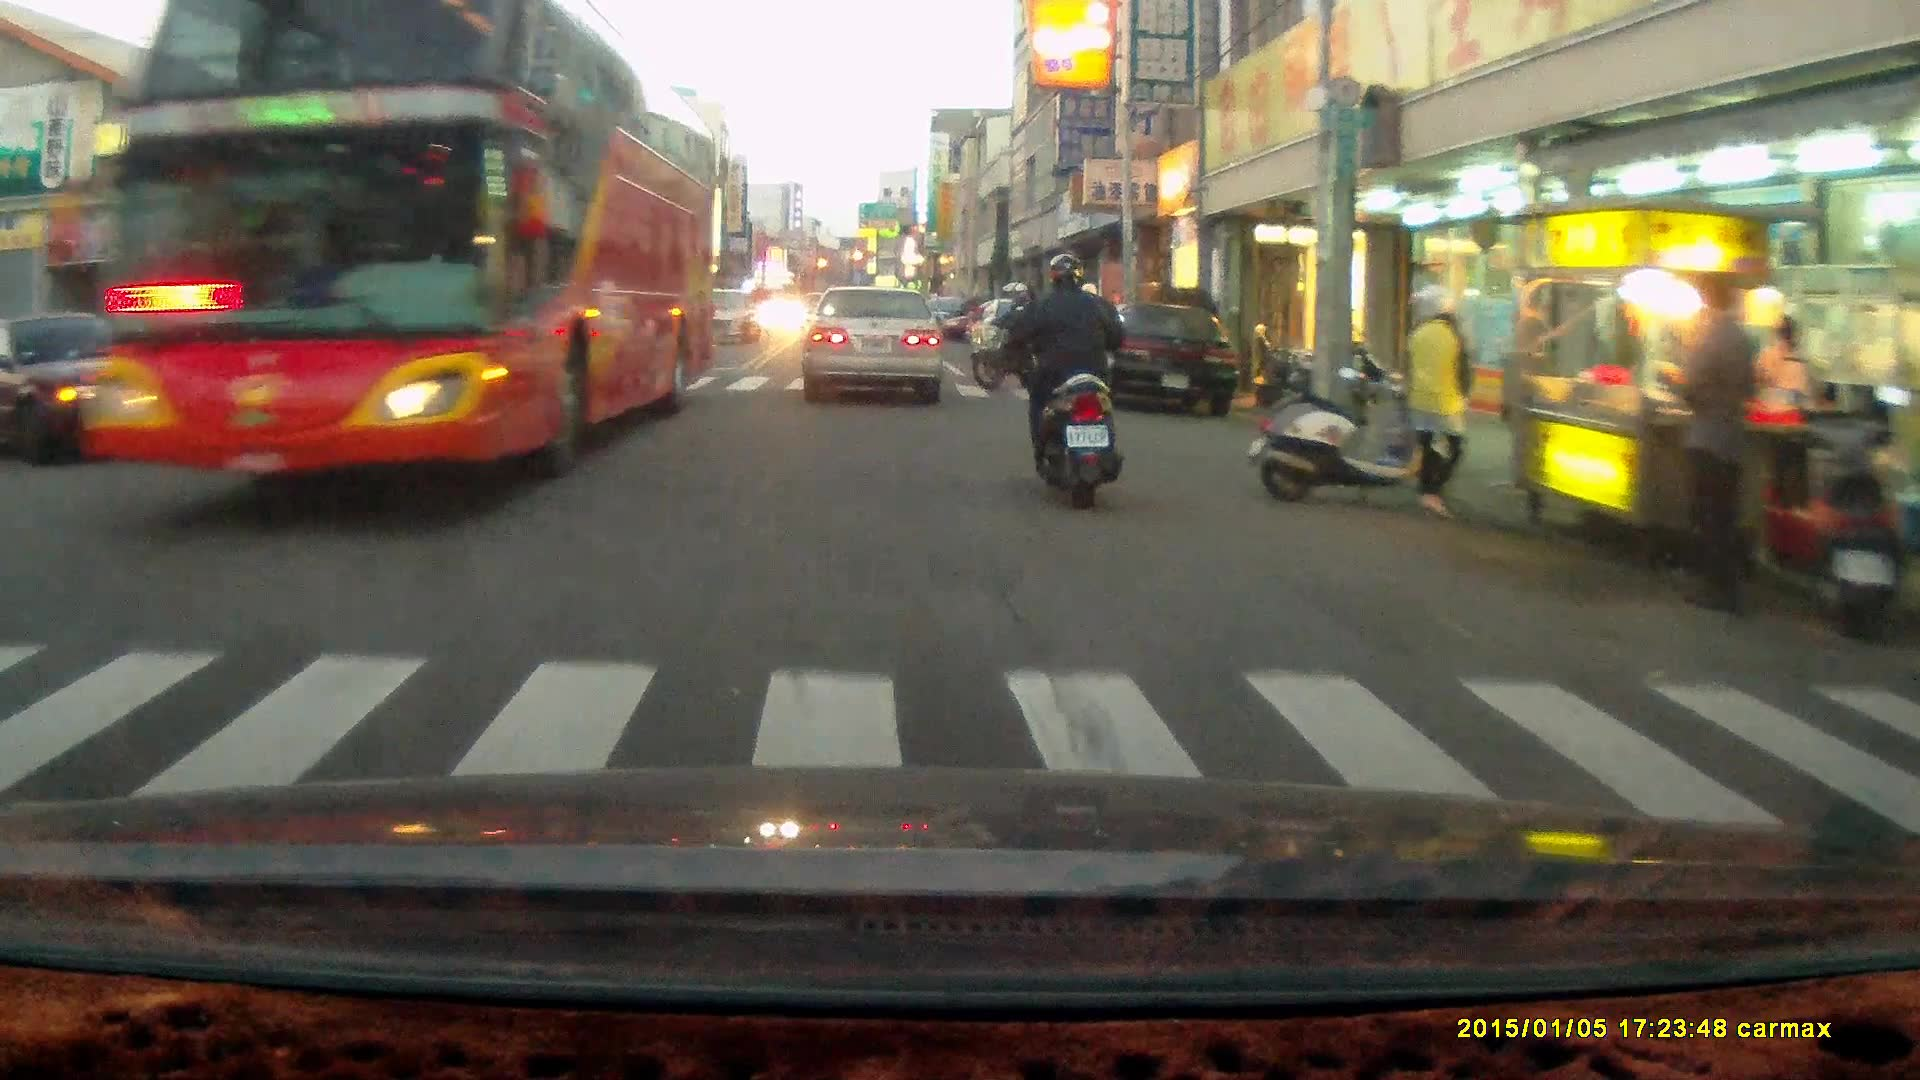pedestrian: (1664, 279, 1764, 615), (1398, 282, 1476, 525), (1758, 313, 1817, 499)
rider: (1001, 252, 1120, 510), (973, 279, 1043, 392)
vehicle: (78, 22, 715, 486), (1, 313, 147, 460), (1076, 300, 1249, 420), (801, 288, 946, 405)
